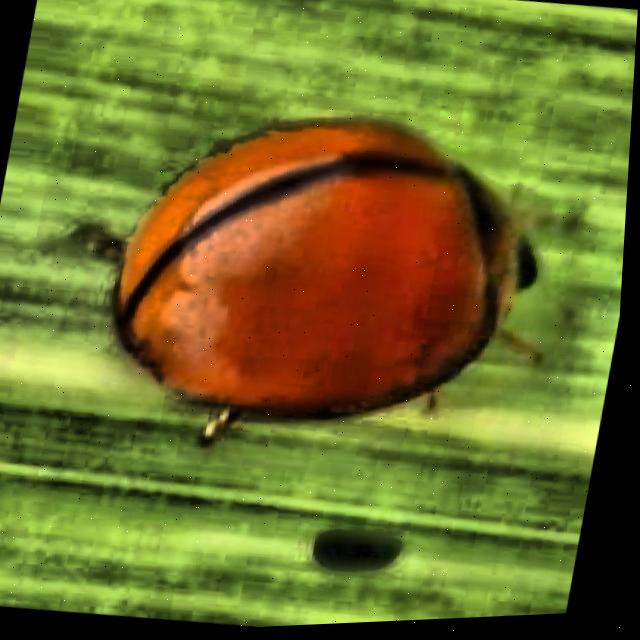Ladybug: (0, 0, 639, 533)
